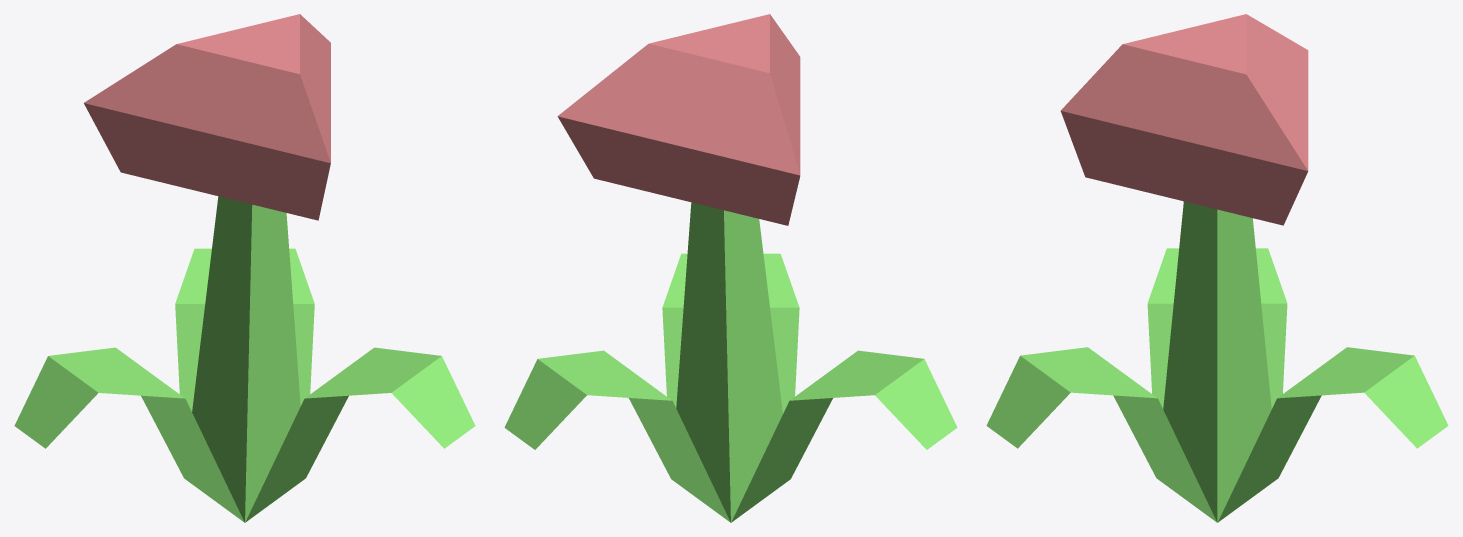
The model's file is flower_redB.glb.
3 renders of one model, left to right at view 1: azimuth 30°, elevation 25°; view 2: azimuth 150°, elevation 25°; view 3: azimuth 270°, elevation 25°, orthographic.
Parts seen in each view (by area): view 1: flower_redB; view 2: flower_redB; view 3: flower_redB.
Part boxes in pixels (x1=…): flower_redB: x1=14, y1=14, x2=475, y2=522; flower_redB: x1=504, y1=14, x2=957, y2=522; flower_redB: x1=986, y1=14, x2=1448, y2=522.
Bounding box in the file's own units: 0.2073 × 0.2585 × 0.2392.
